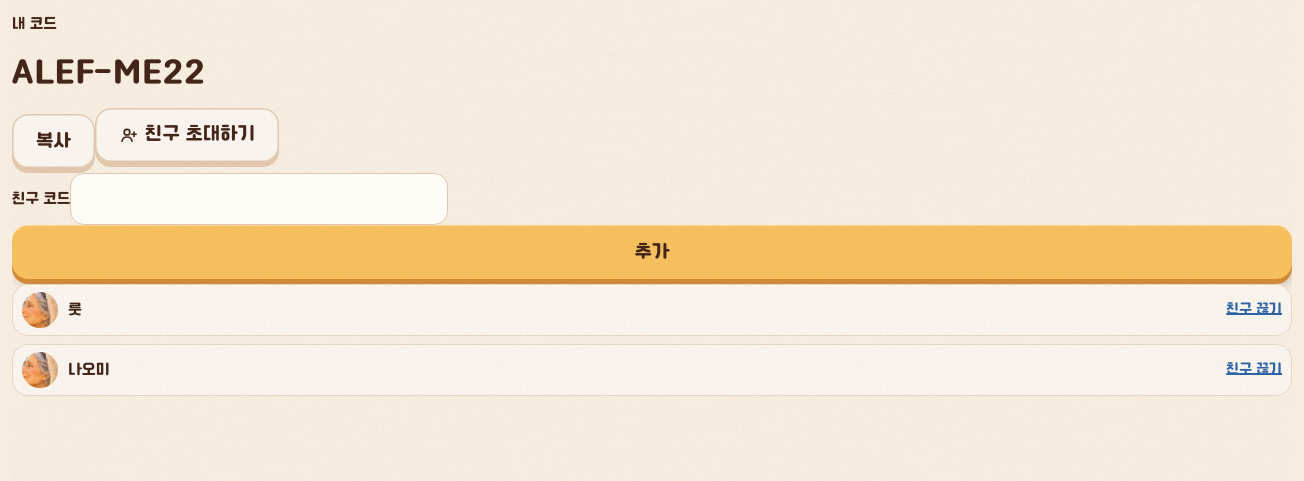
Test: FriendsManager › add button is disabled while a request is in flight
Expected: the text "룻" is shown, [68,299,82,321]
Type "K7Q2" into the field labelled "친구 코드".
click(259, 199); type("K7Q2")  # box [70,173,448,225]
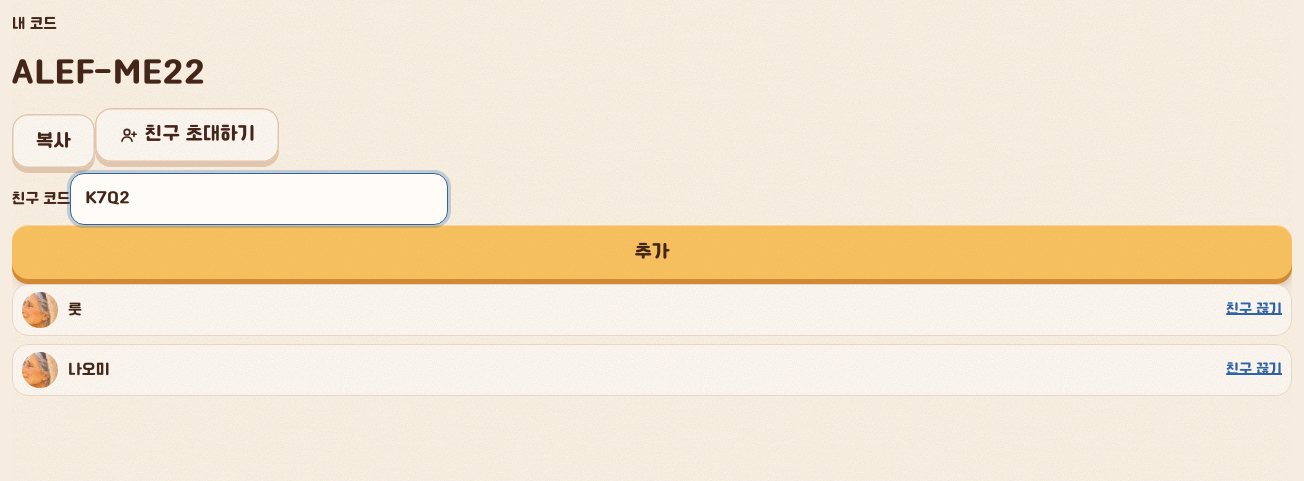
Click the button "추가".
click(652, 252)  # box [12,225,1292,279]
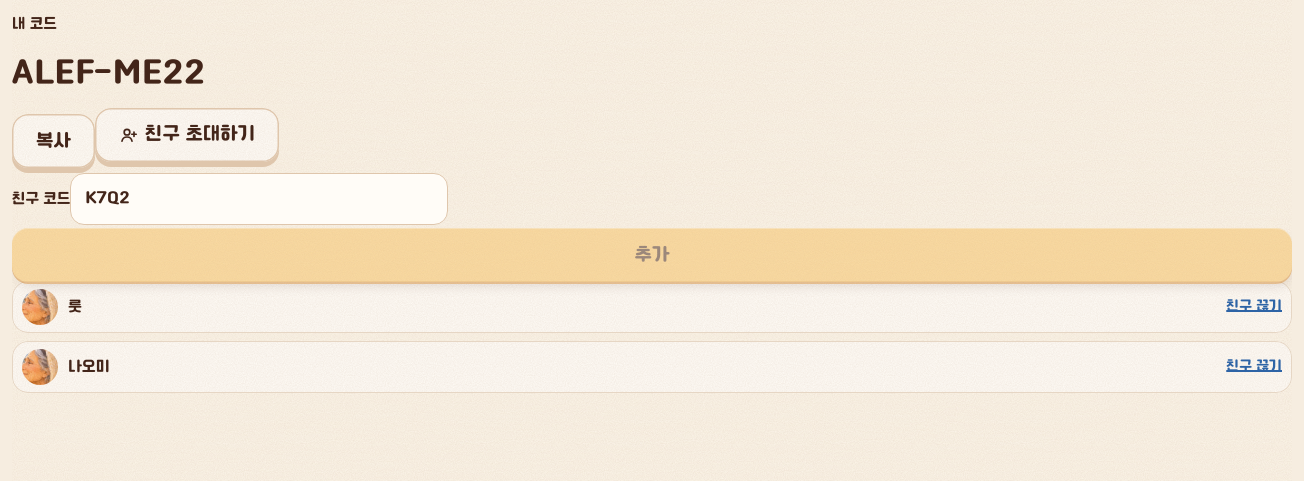
Expected: the button "추가" is disabled, [12,228,1292,282]
